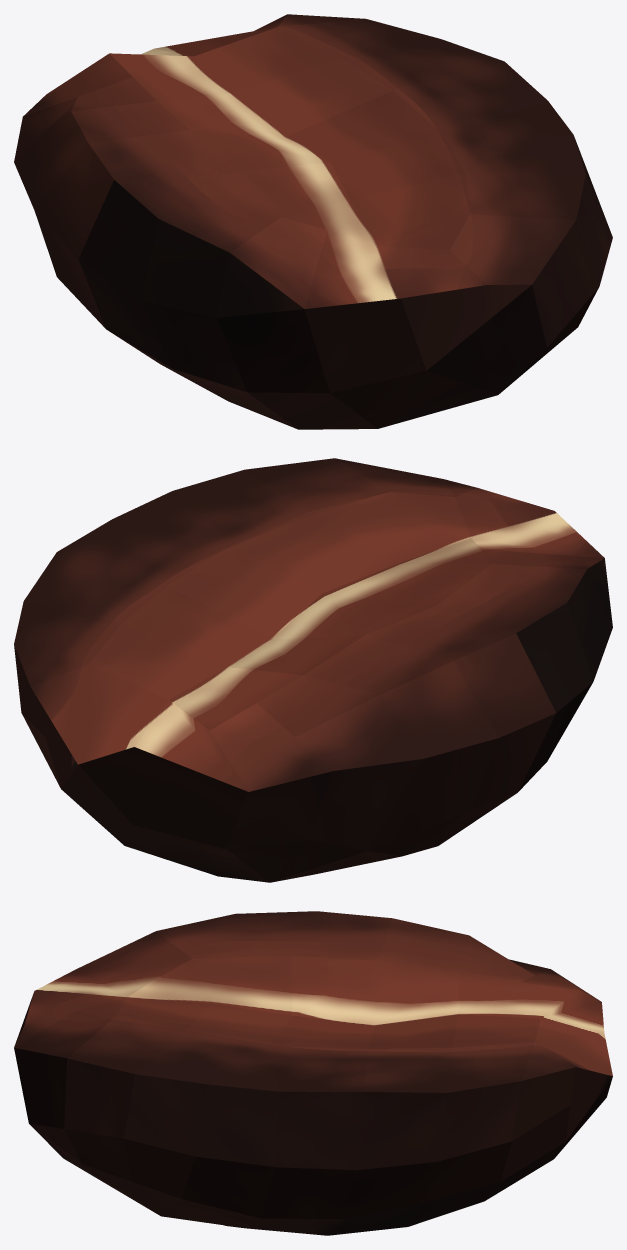
File: arabica.fbx
The picture shows the model from 3 angles, top to bottom: view 1: azimuth 30°, elevation 25°; view 2: azimuth 150°, elevation 25°; view 3: azimuth 270°, elevation 25°; orthographic projection. The views are drawn at different scales.
Visible parts, largest first — view 1: ArabicaRetopo; view 2: ArabicaRetopo; view 3: ArabicaRetopo.
Boxes of the visible parts, bbox=[...] form: ArabicaRetopo: bbox=[14, 14, 612, 429]; ArabicaRetopo: bbox=[14, 458, 612, 882]; ArabicaRetopo: bbox=[14, 911, 612, 1235].
Bounding box in the file's own units: 18.4 × 9.31 × 23.56.
